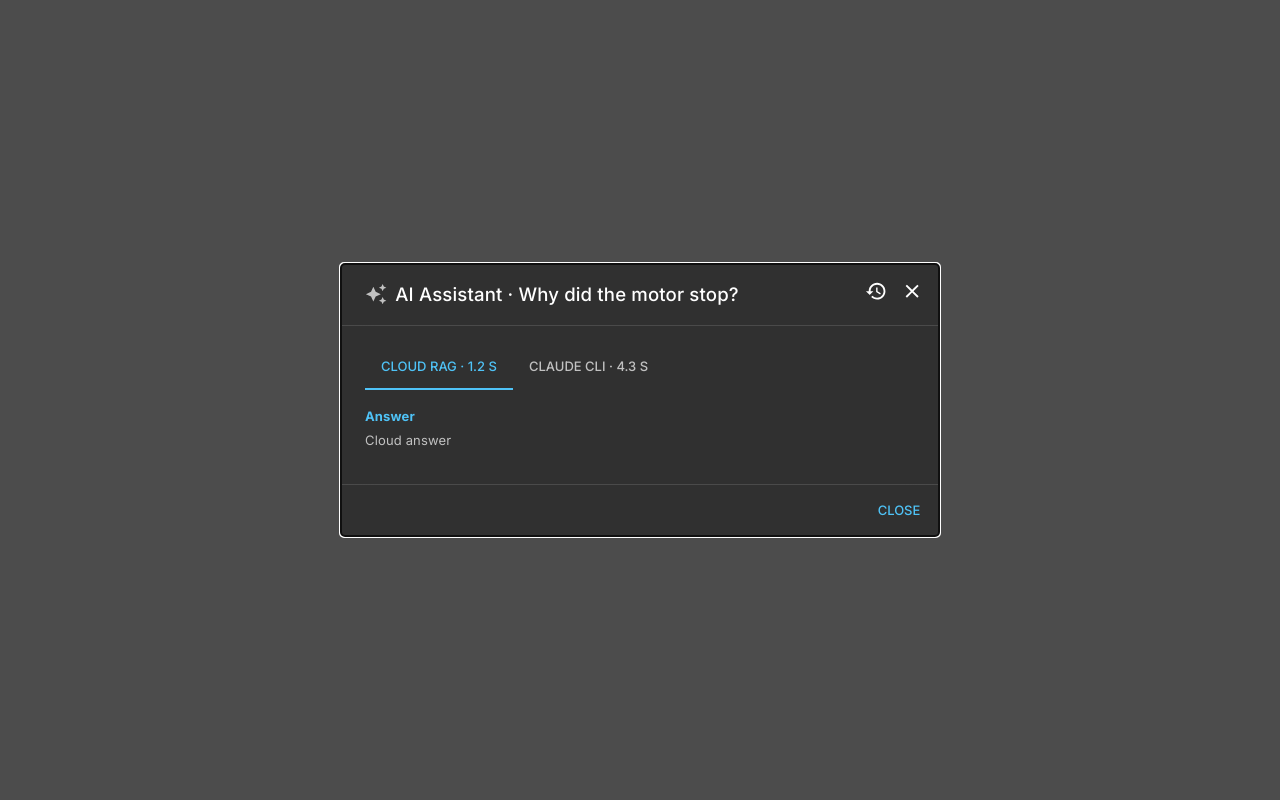
it: SearchAiDialog comparison tabs › switches between provider-labelled answers with durations
Expected: the text "Cloud answer" is shown, [365,432,451,448]
Expected: the tab "Cloud RAG · 1.2 s" is shown, [365,342,513,390]
What coordinates should you click on to do the following:
click the tab "Claude CLI · 4.3 s"
I would click on:
 (588, 366)
Its box is [513,342,664,390].
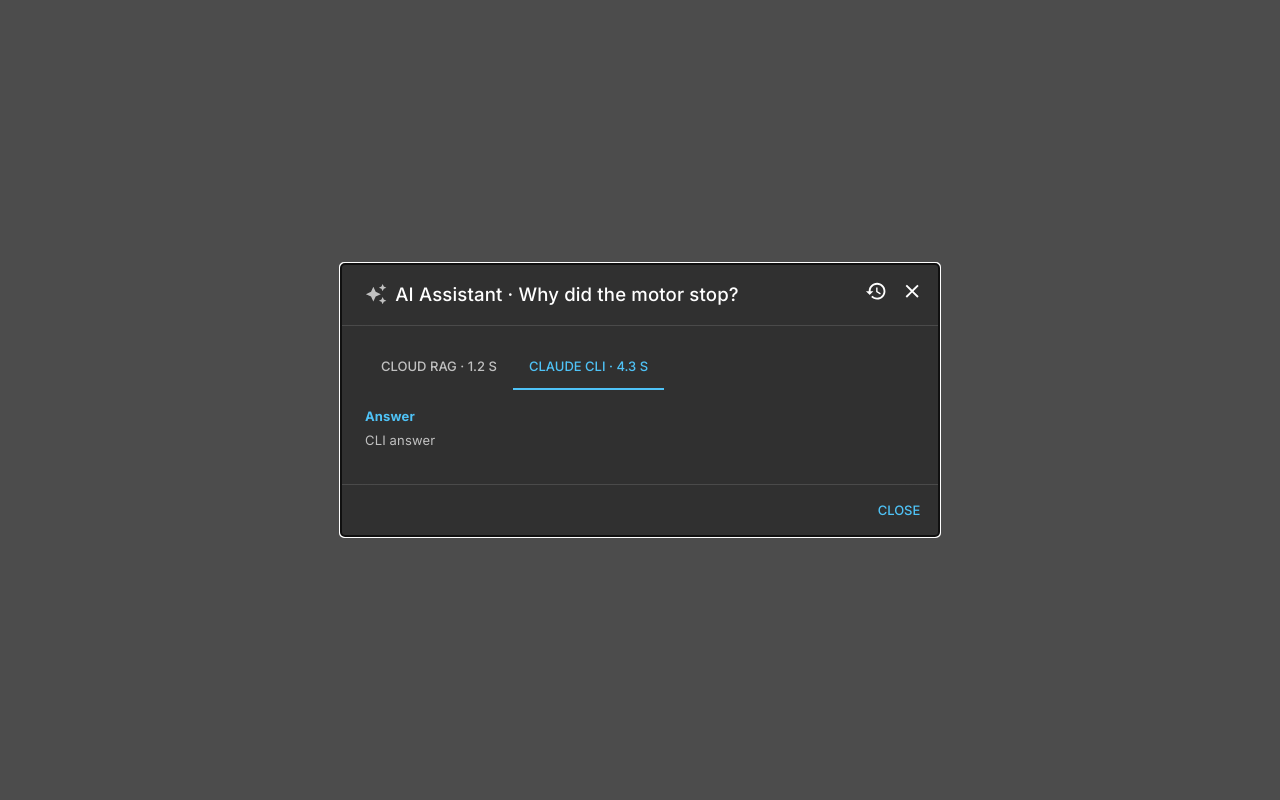
Expected: the text "CLI answer" is shown, [365,432,435,448]
